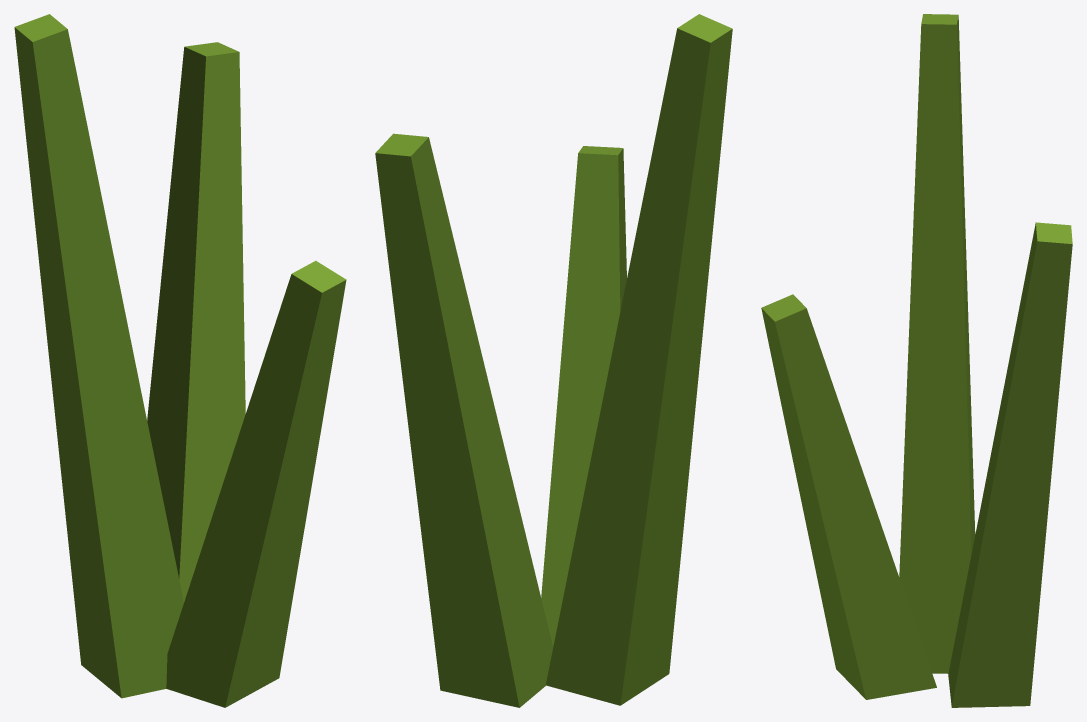
File: NoCollisionMore_SF_Env_RiverPlants_04.fbx
The picture shows the model from 3 angles, left to right: view 1: azimuth 30°, elevation 25°; view 2: azimuth 150°, elevation 25°; view 3: azimuth 270°, elevation 25°; orthographic projection. The views are drawn at different scales.
Parts seen in each view (by area): view 1: SF_Env_RiverPlants_04; view 2: SF_Env_RiverPlants_04; view 3: SF_Env_RiverPlants_04.
Boxes of the visible parts, left/top/right/bottom form: SF_Env_RiverPlants_04: left=14, top=14, right=346, bottom=707; SF_Env_RiverPlants_04: left=375, top=14, right=732, bottom=707; SF_Env_RiverPlants_04: left=761, top=14, right=1072, bottom=707.
Size of the model in its own units: 82.94 by 196 by 92.63.
